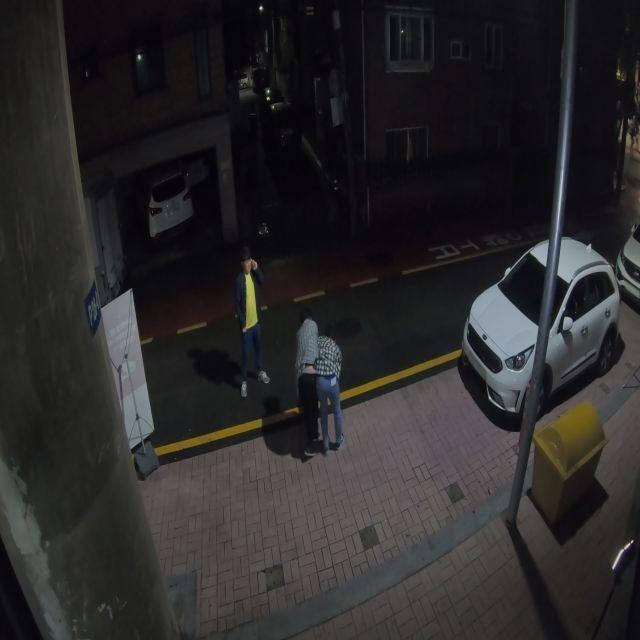fight: (294, 312, 346, 456)
non-fight: (233, 250, 271, 396)
